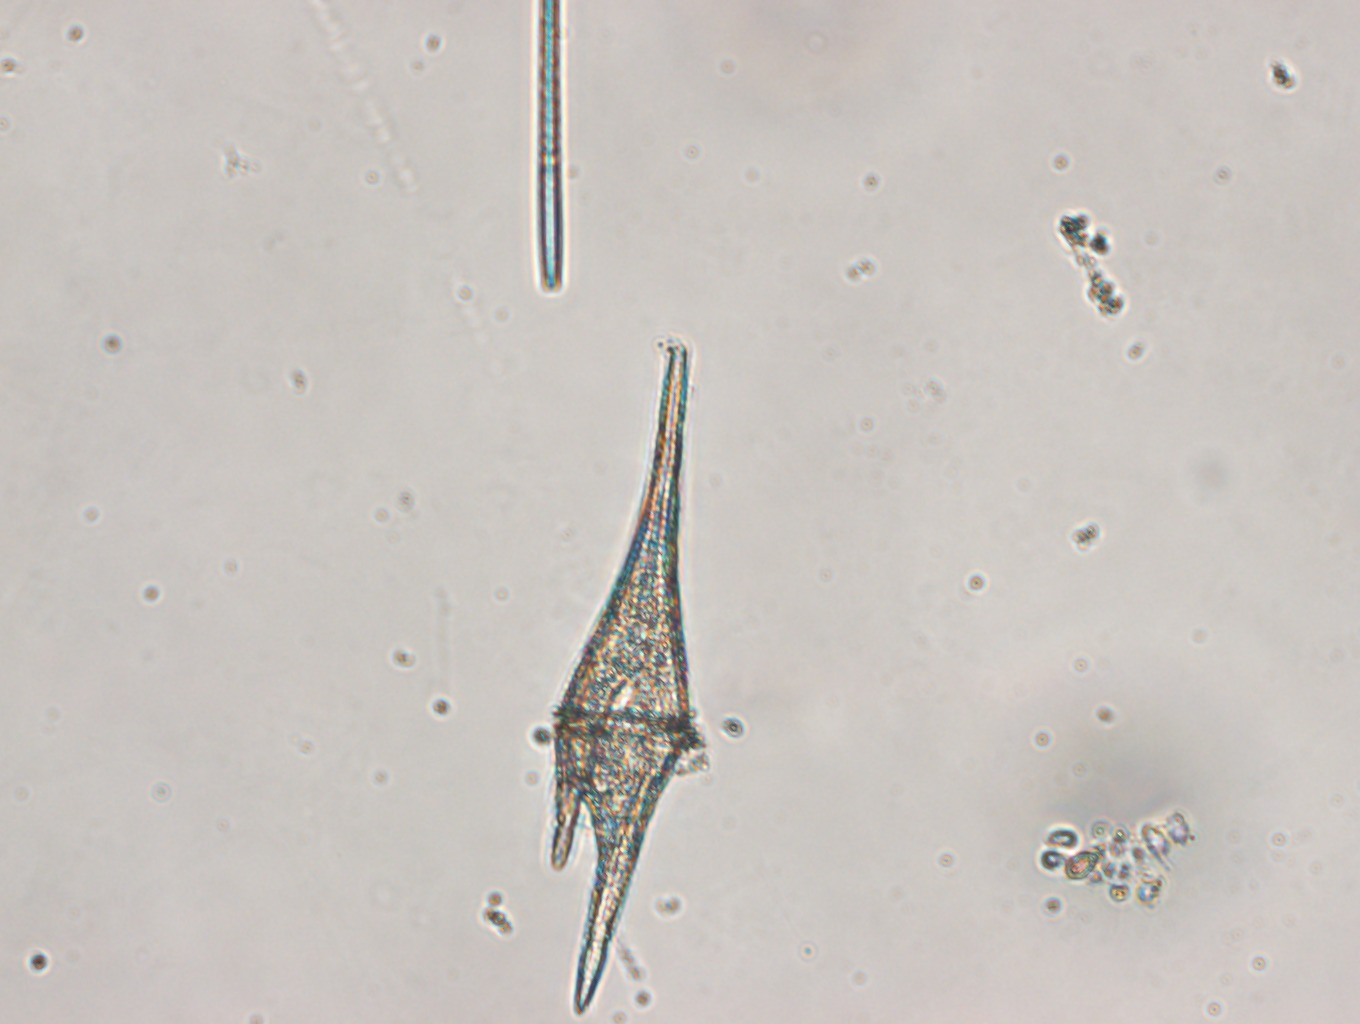ceratium furca: (550, 344, 690, 1016)
